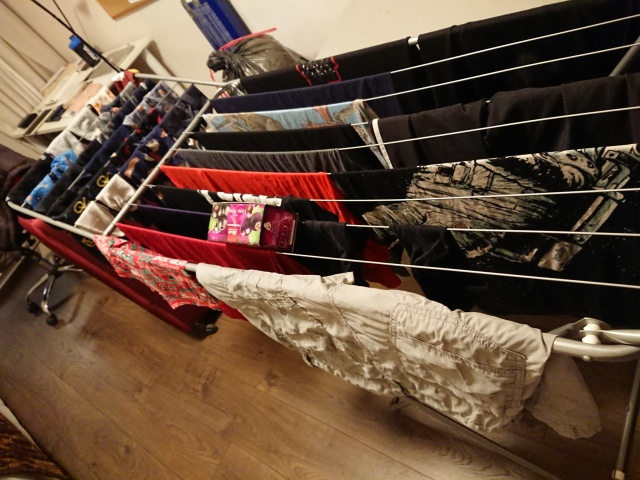Franck Black Currant Tea 60g: (205, 200, 301, 254)
